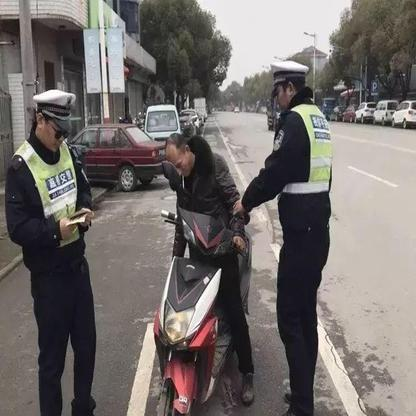target: (151, 133, 255, 410)
